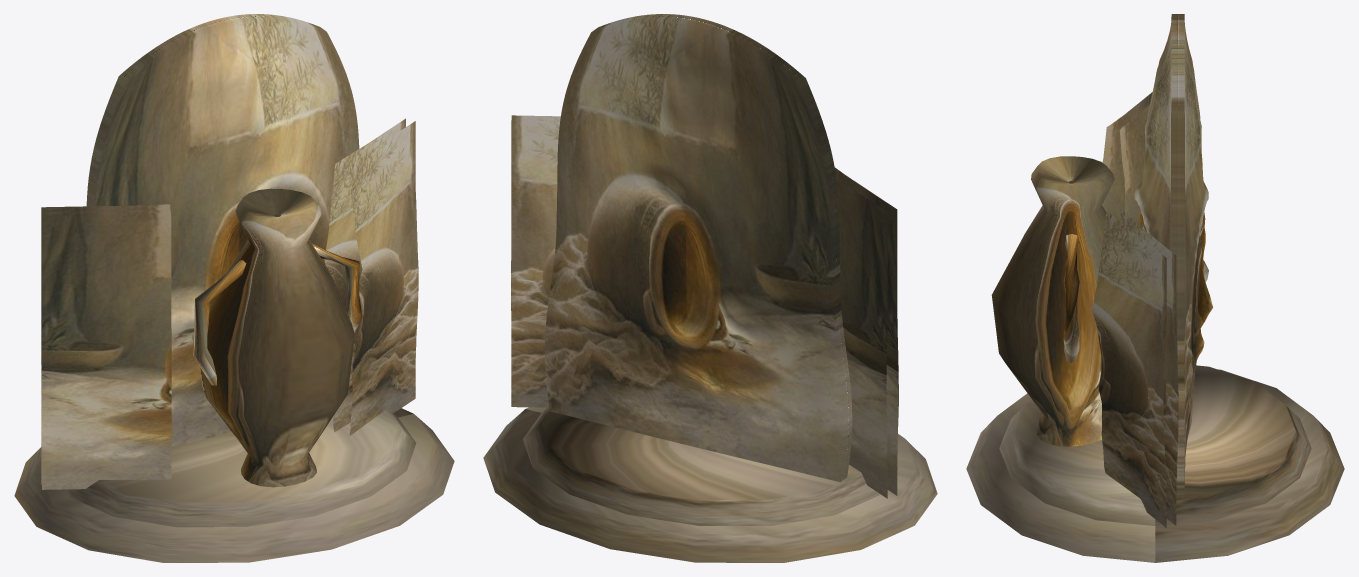
Rendered from treasure-in-clay-jars-40.glb.
The picture shows the model from 3 angles, left to right: view 1: azimuth 30°, elevation 25°; view 2: azimuth 150°, elevation 25°; view 3: azimuth 270°, elevation 25°; orthographic projection. The views are drawn at different scales.
Visible parts, largest first — view 1: PaintingSculptureMonument; view 2: PaintingSculptureMonument; view 3: PaintingSculptureMonument.
Boxes of the visible parts, bbox=[...] form: PaintingSculptureMonument: bbox=[14, 14, 454, 562]; PaintingSculptureMonument: bbox=[483, 14, 937, 562]; PaintingSculptureMonument: bbox=[966, 14, 1344, 562].
Bounding box in the file's own units: 2.76 × 2.99 × 2.35.
1 material, 1 textured.
